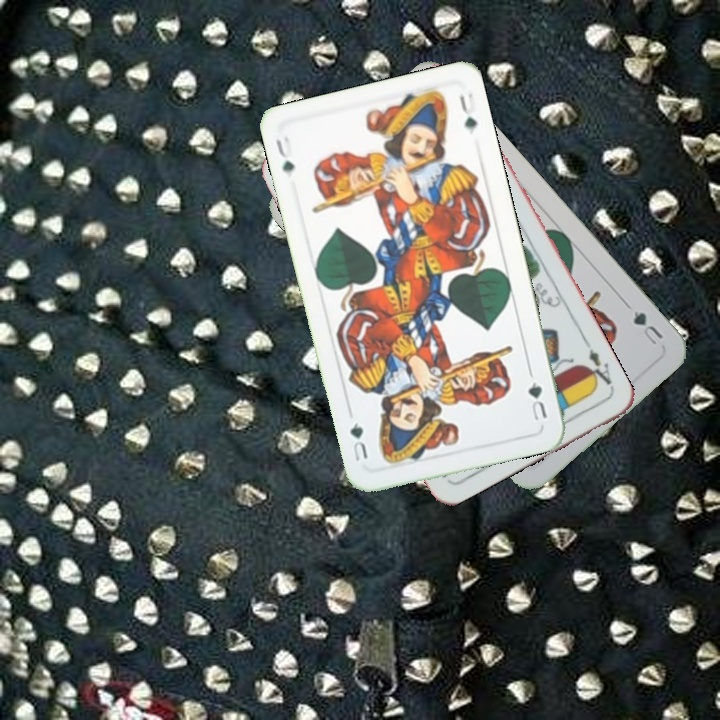EA: (581, 338, 616, 392)
GU: (629, 306, 666, 349), (523, 377, 550, 424), (272, 132, 298, 177)
